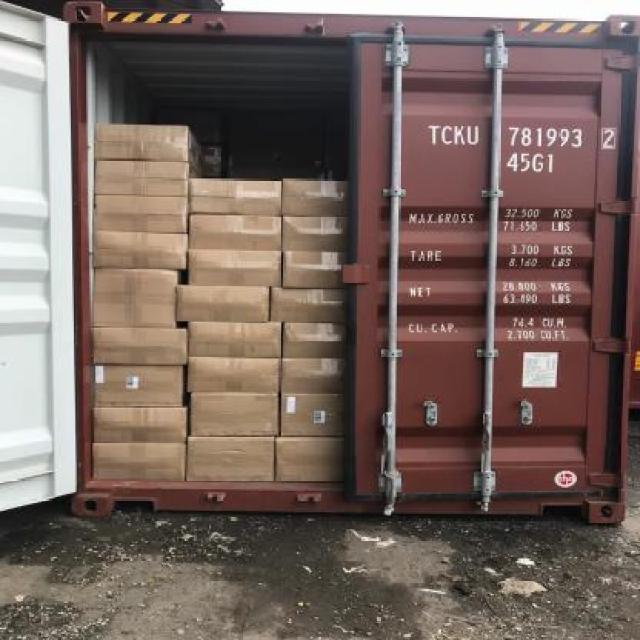ISO: (506, 152, 554, 174)
container_number: (433, 121, 614, 150)
